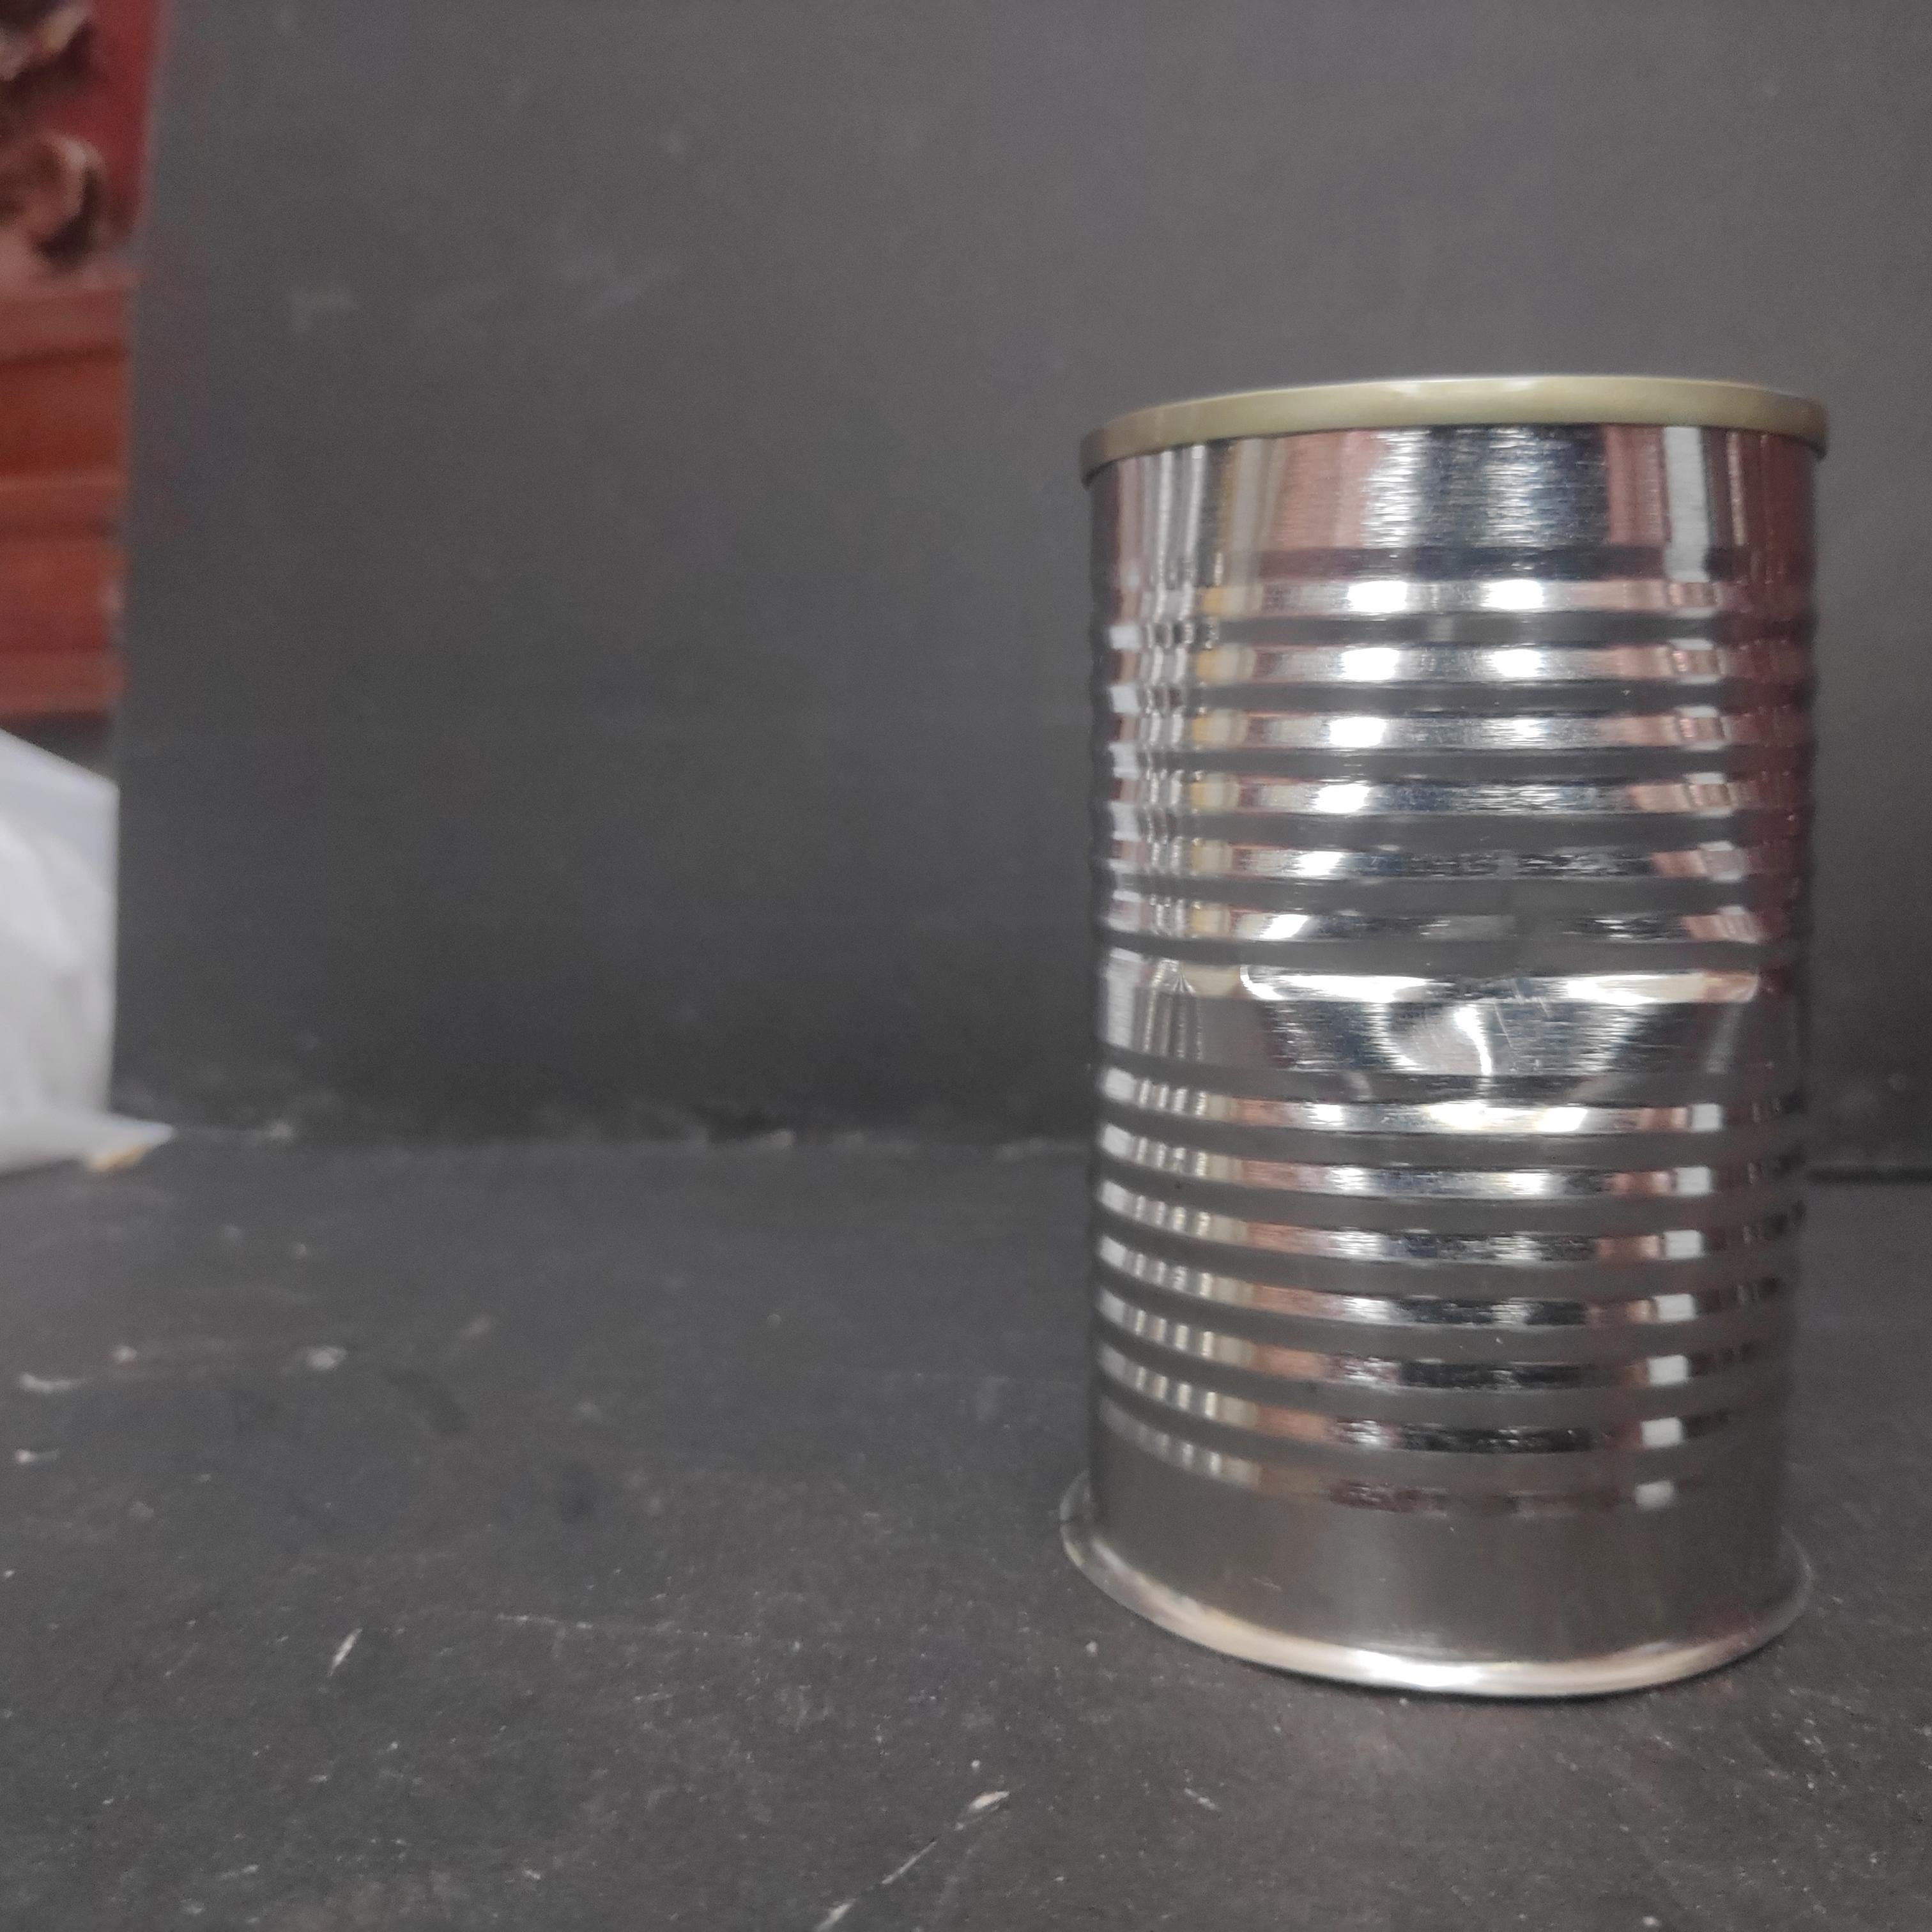Minor Defect: (1071, 362, 1834, 1706)
